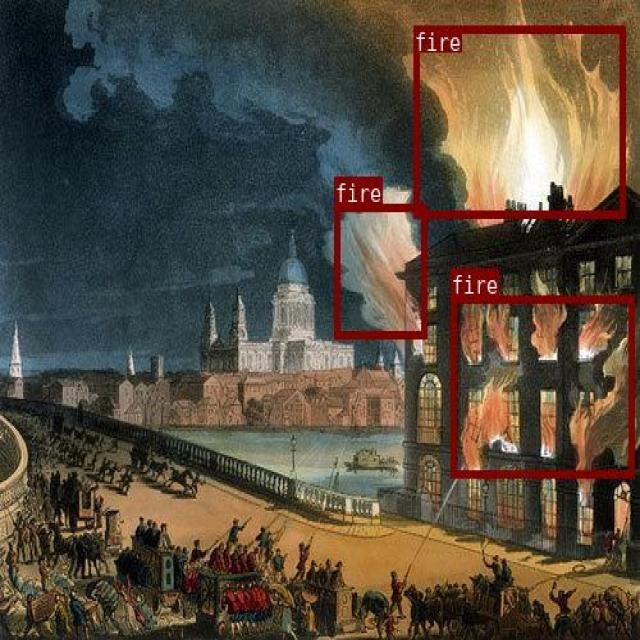fire: (413, 24, 624, 217), (450, 295, 633, 477), (333, 203, 426, 336)
